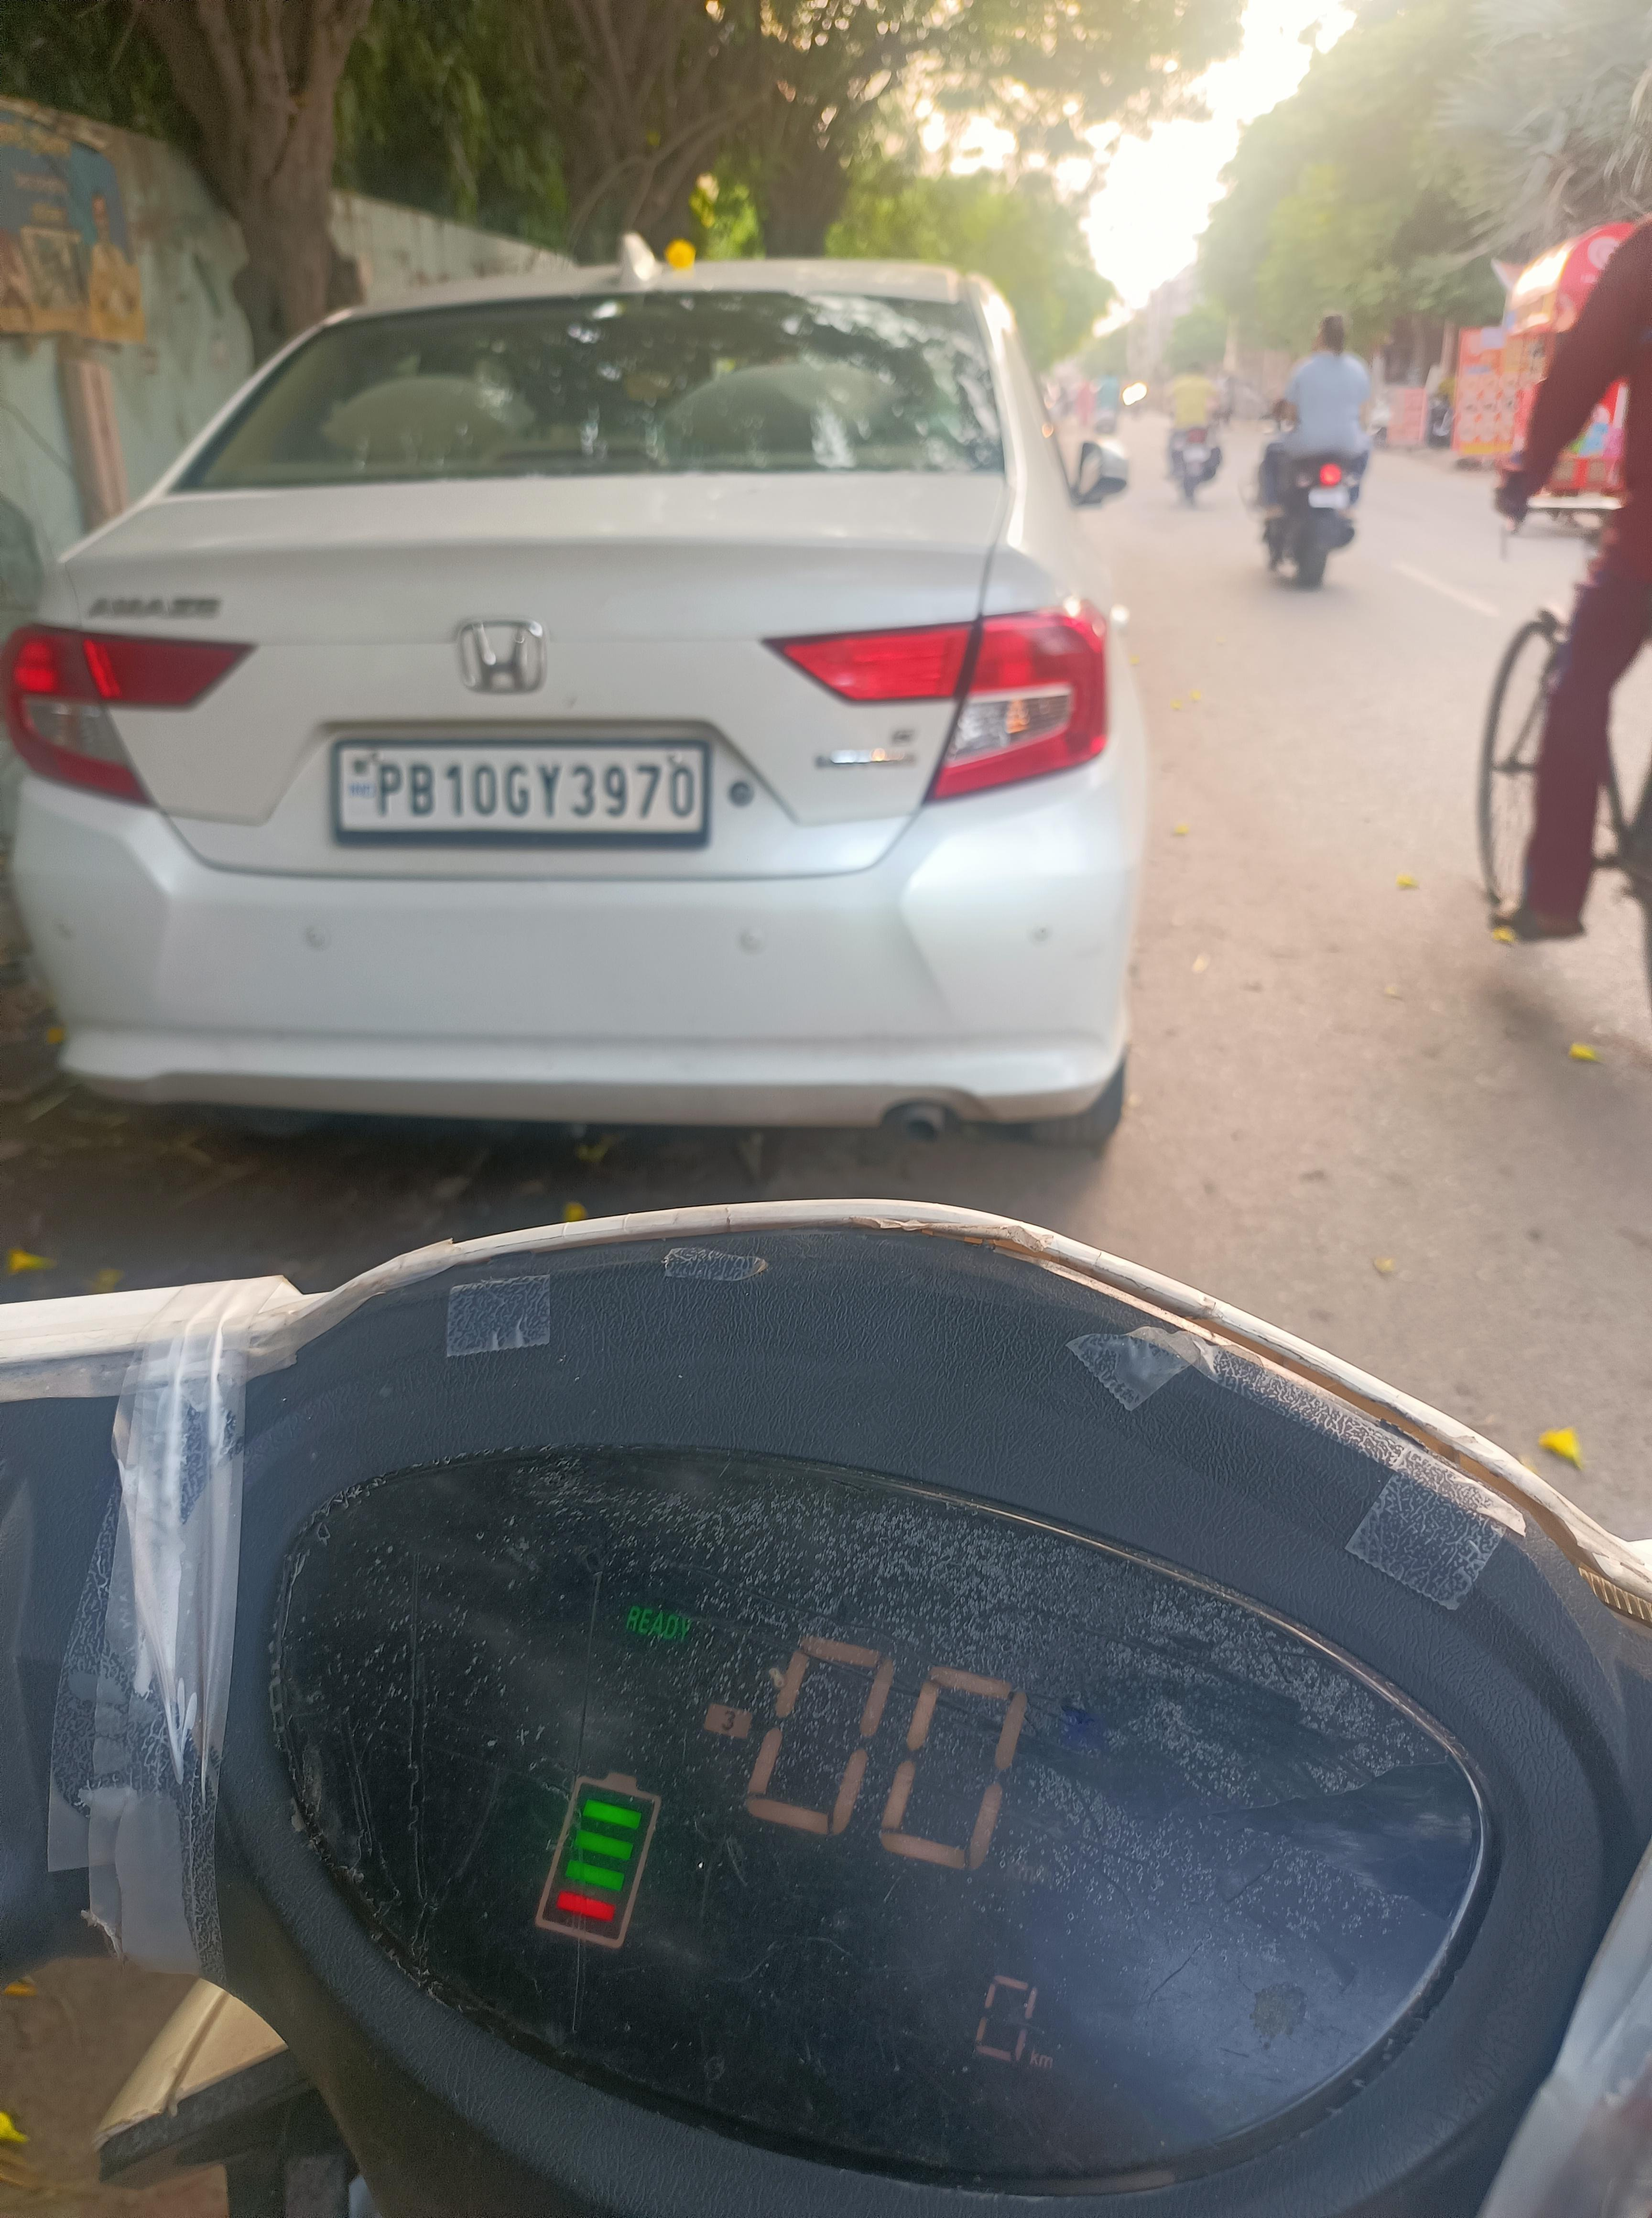license_plate: (311, 708, 735, 830)
